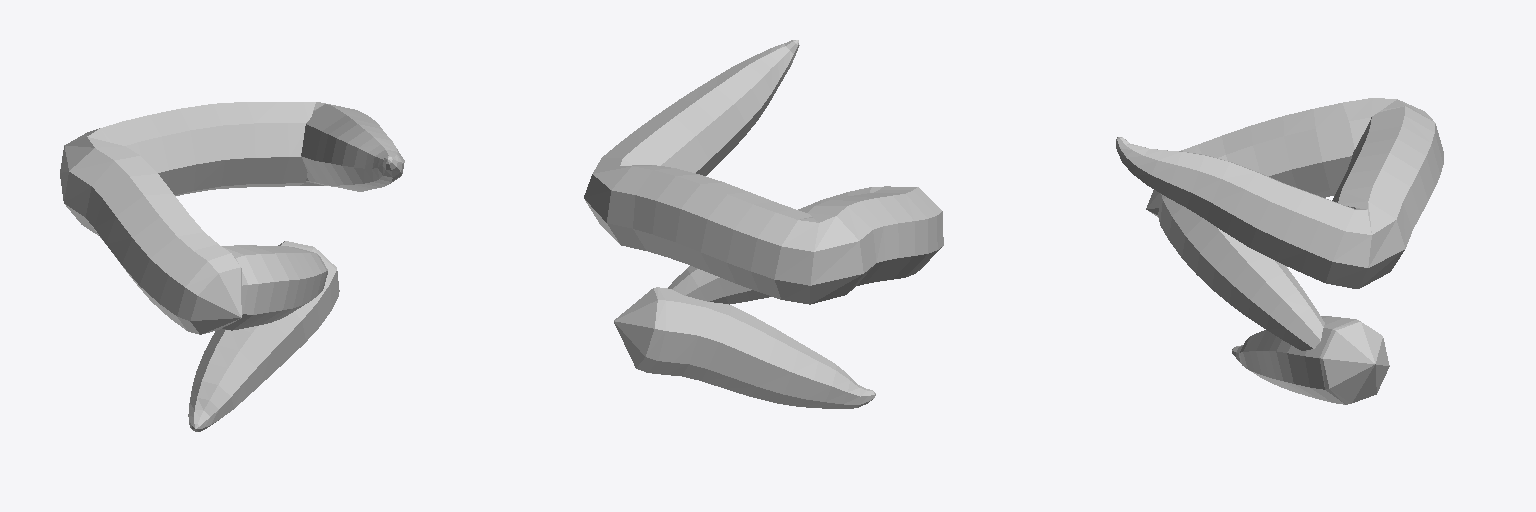
3 renders of one model, left to right at view 1: azimuth 30°, elevation 25°; view 2: azimuth 150°, elevation 25°; view 3: azimuth 270°, elevation 25°, orthographic.
Parts seen in each view (by area): view 1: Toon_geo.002_Toon_mesh.002; view 2: Toon_geo.002_Toon_mesh.002; view 3: Toon_geo.002_Toon_mesh.002.
Part boxes in pixels (bbox=[...]): Toon_geo.002_Toon_mesh.002: bbox=[60, 102, 404, 431]; Toon_geo.002_Toon_mesh.002: bbox=[584, 40, 943, 408]; Toon_geo.002_Toon_mesh.002: bbox=[1116, 98, 1443, 404].
Size of the model in its own units: 1.27 by 1.22 by 1.26.